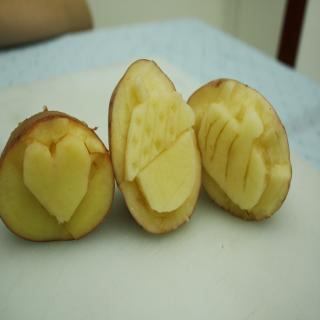Potato: (108, 57, 202, 233), (189, 74, 292, 226), (0, 105, 115, 240)
